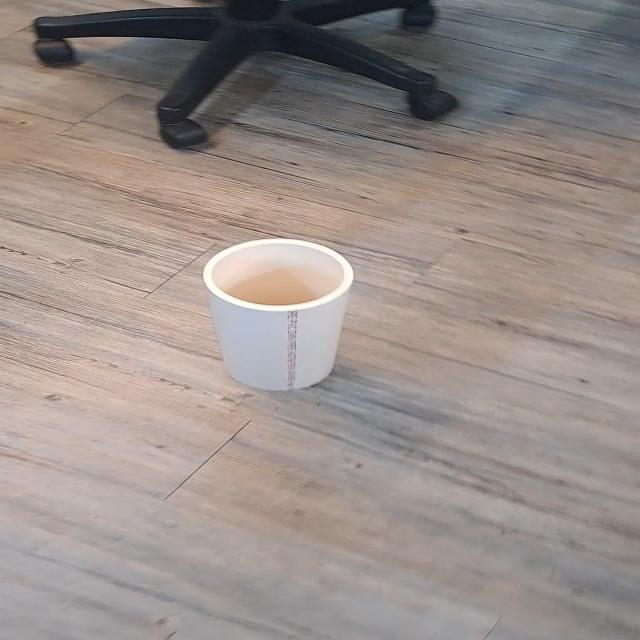CORAL: (202, 234, 355, 396)
